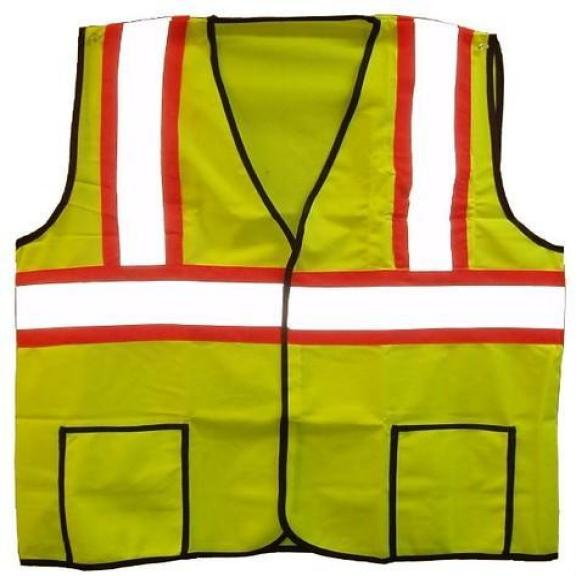safety_vest: (15, 7, 568, 568)
